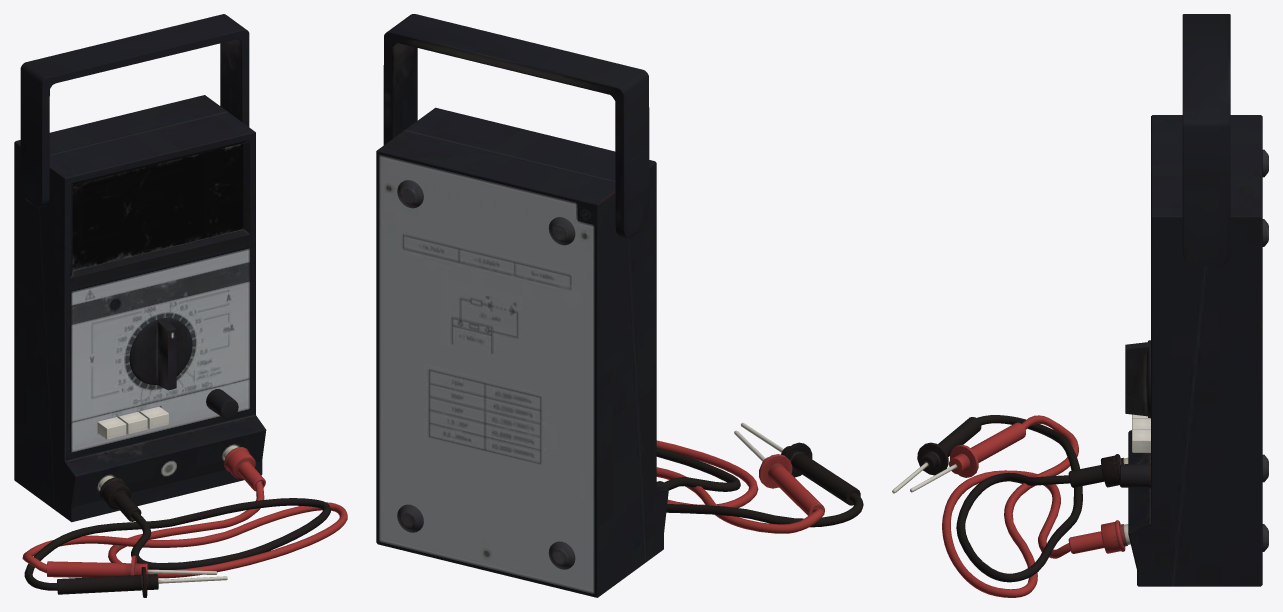
Rendered from multimeter.glb.
3 views of the same model, side by side, from view 1: azimuth 30°, elevation 25°; view 2: azimuth 150°, elevation 25°; view 3: azimuth 270°, elevation 25° (orthographic). The views are drawn at different scales.
Parts seen in each view (by area): view 1: retro_multimeter_LOD0; view 2: retro_multimeter_LOD0; view 3: retro_multimeter_LOD0.
Part boxes in pixels (x1,y1,x2,y2): retro_multimeter_LOD0: (14,14,347,597); retro_multimeter_LOD0: (376,14,863,597); retro_multimeter_LOD0: (892,14,1268,597).
Bounding box in the file's own units: 0.216 × 0.2786 × 0.2026.
Materials: 2 (2 with a texture image).
